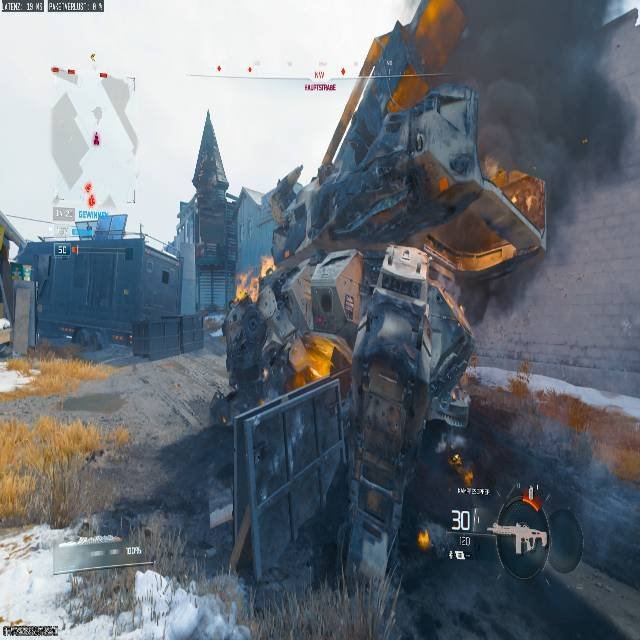player: (224, 0, 547, 595)
